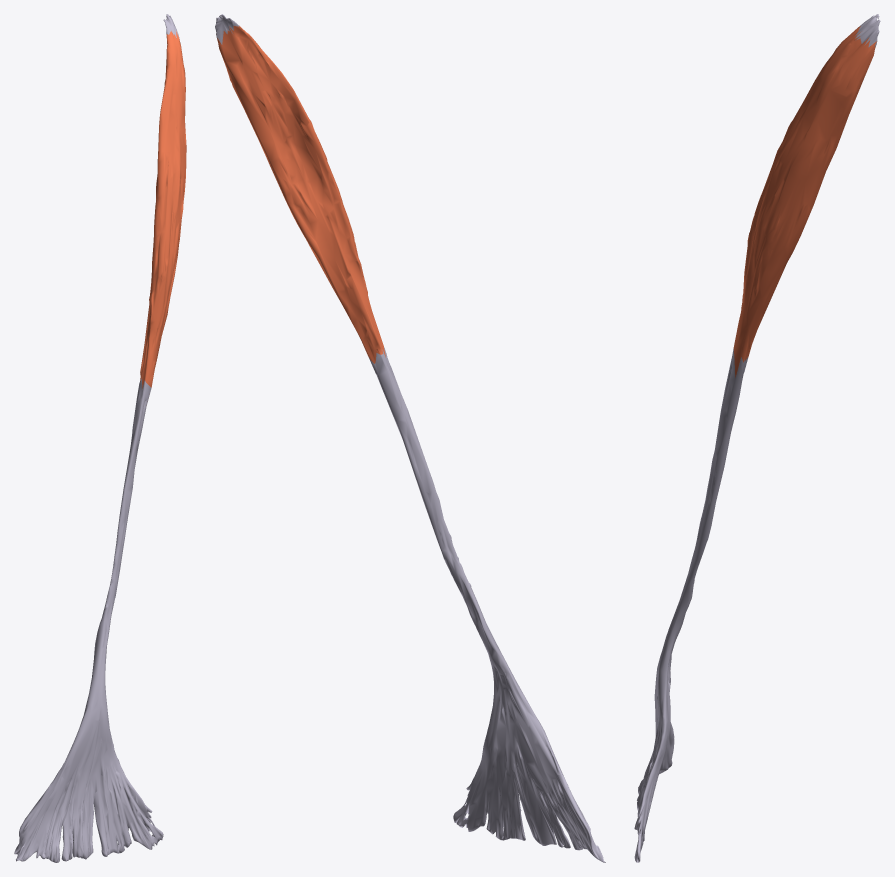
Rendered from Palmaris_longus_muscle.r_Generated_Mesh_From_X3D.306.glb.
3 renders of one model, left to right at view 1: azimuth 30°, elevation 25°; view 2: azimuth 150°, elevation 25°; view 3: azimuth 270°, elevation 25°, orthographic. The views are drawn at different scales.
Parts seen in each view (by area): view 1: Palmaris_longus_muscle.r_Generated_Mesh_From_X3D.306; view 2: Palmaris_longus_muscle.r_Generated_Mesh_From_X3D.306; view 3: Palmaris_longus_muscle.r_Generated_Mesh_From_X3D.306.
Boxes of the visible parts, <box> form: Palmaris_longus_muscle.r_Generated_Mesh_From_X3D.306: <box>14,14,186,862</box>; Palmaris_longus_muscle.r_Generated_Mesh_From_X3D.306: <box>215,14,605,862</box>; Palmaris_longus_muscle.r_Generated_Mesh_From_X3D.306: <box>634,14,880,862</box>.
Bounding box in the file's own units: 0.1152 × 0.3314 × 0.0807.
